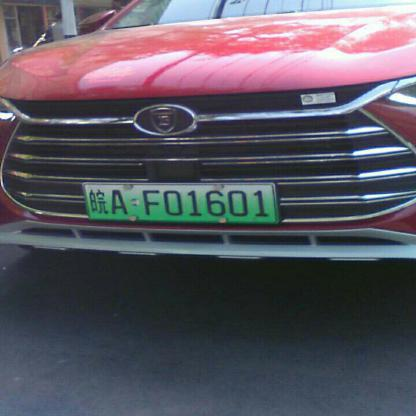lp: (84, 184, 277, 221)
